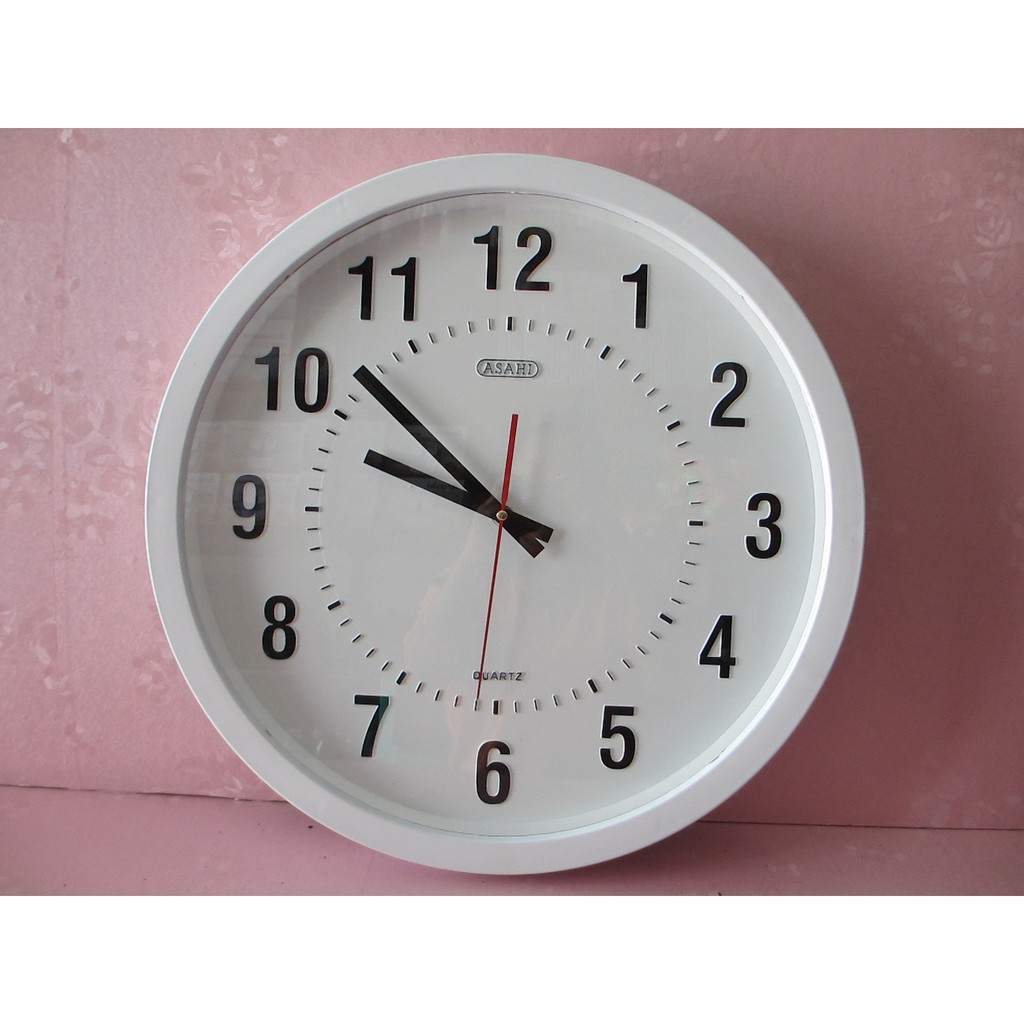jam dinding: (141, 151, 874, 887)
